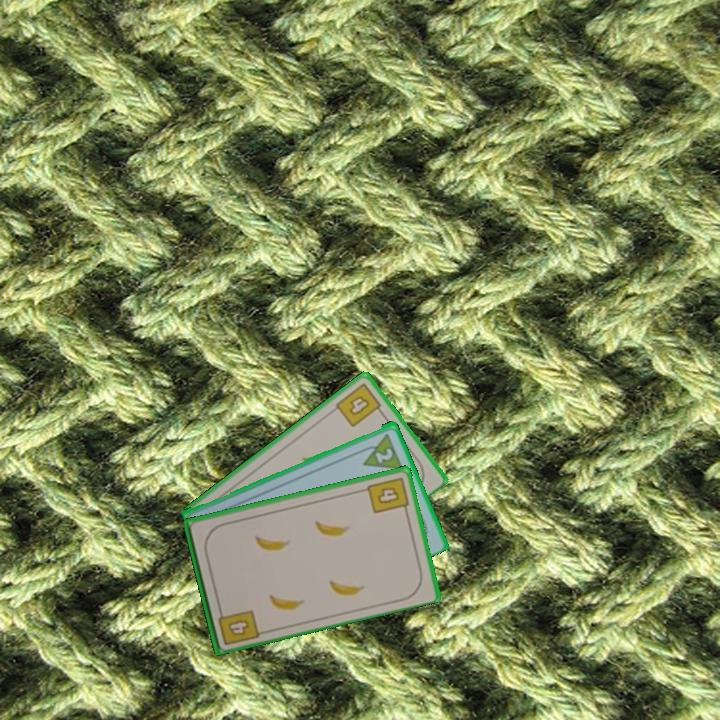2p: (355, 429, 405, 472)
4b: (332, 379, 387, 430), (214, 603, 261, 648), (364, 473, 411, 516)
